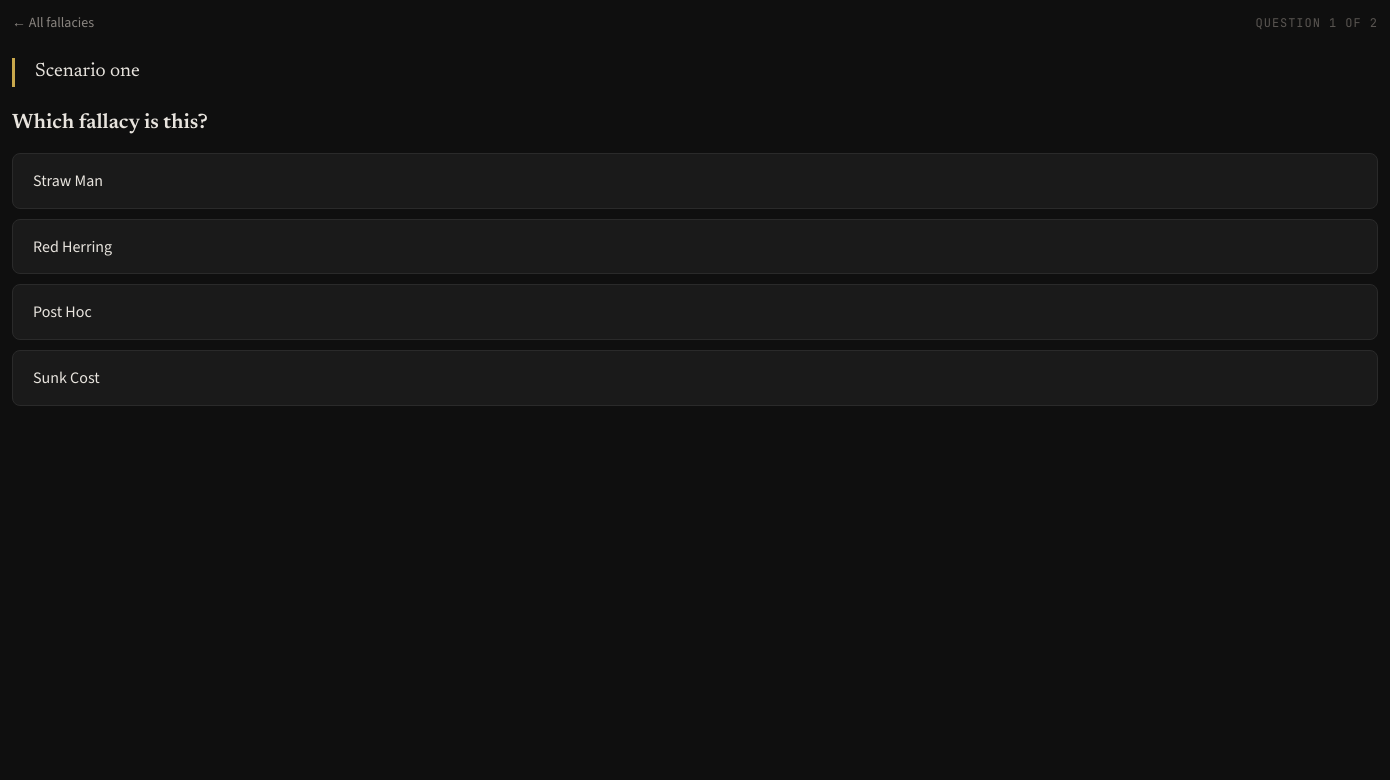
FallacyQuiz › marks a wrong answer and reveals the right one
Step 1. Click the button "Red Herring" → (73, 246), box [12, 219, 1378, 274]
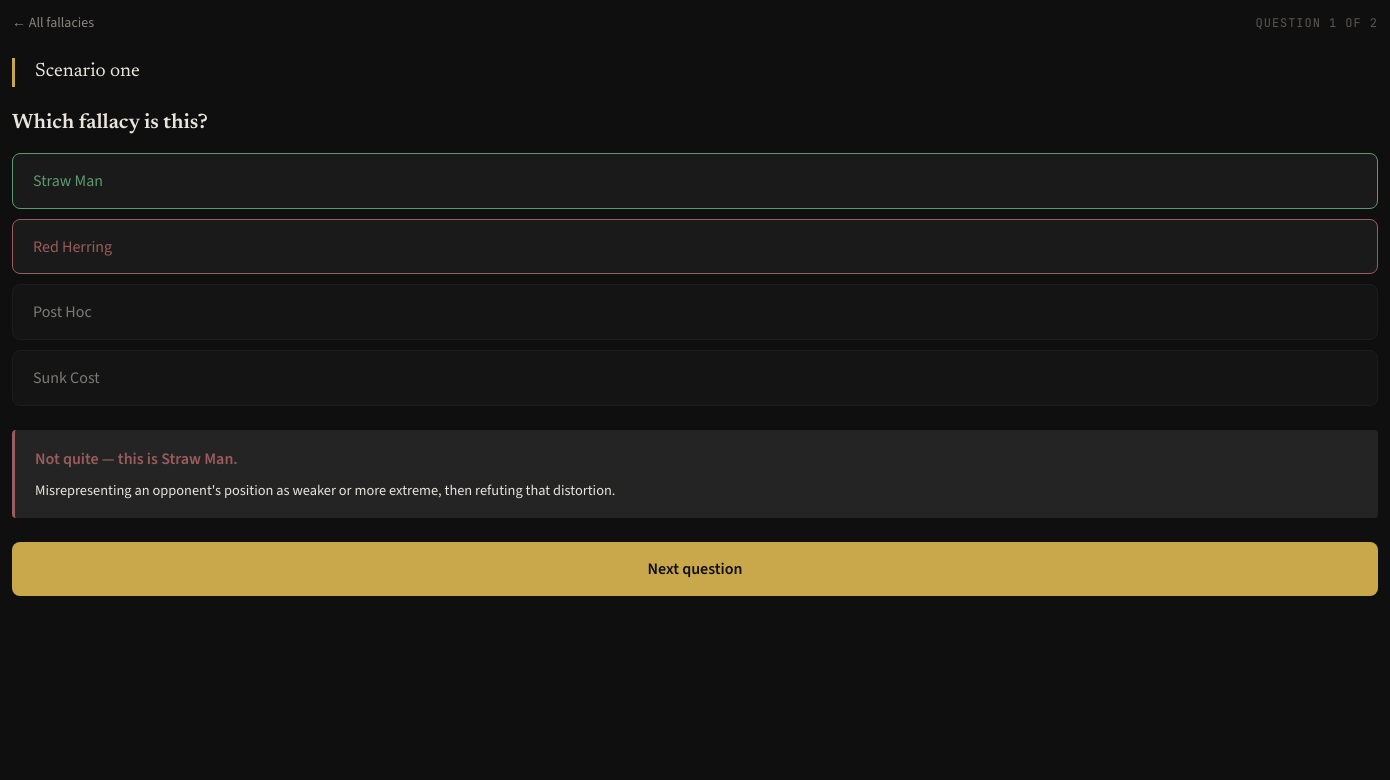
Expected: the message shows "Straw Man", [35, 448, 238, 468]
